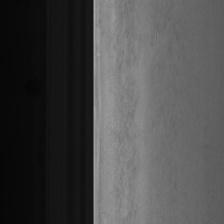silk_spot: (110, 30, 140, 215)
